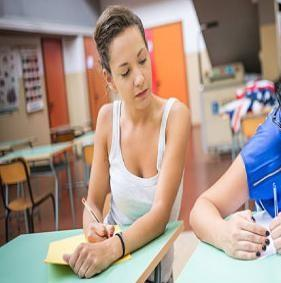cheating: (47, 3, 195, 272)
